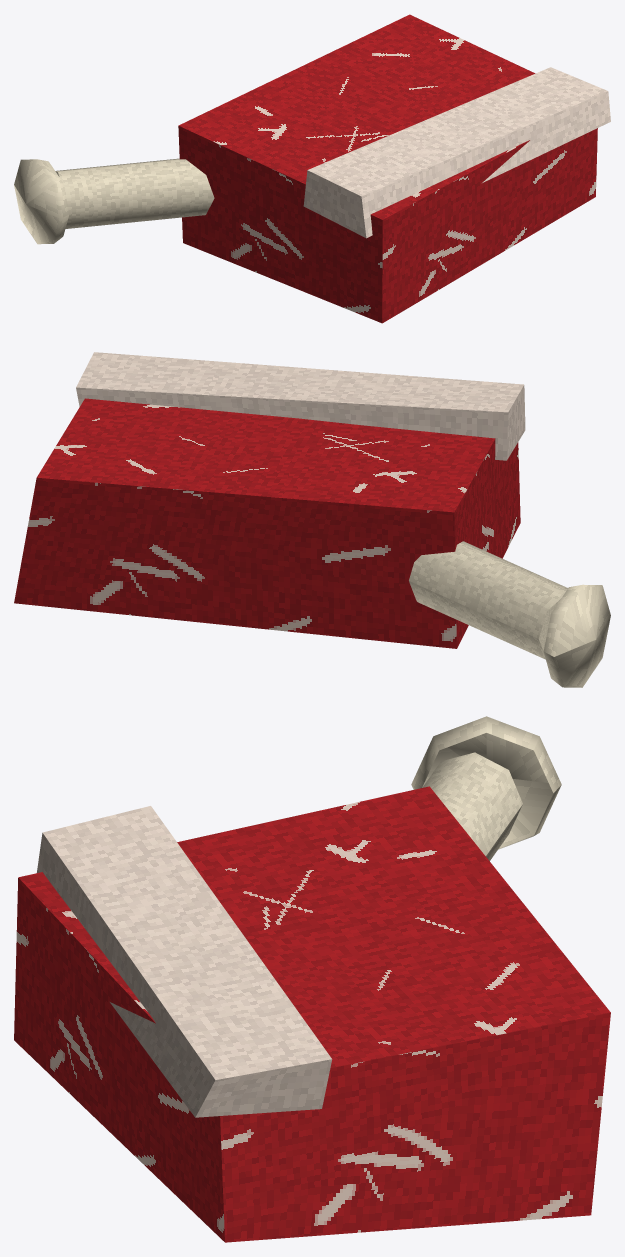
Rendered from item_raw_meat.glb.
The picture shows the model from 3 angles, top to bottom: view 1: azimuth 30°, elevation 25°; view 2: azimuth 150°, elevation 25°; view 3: azimuth 270°, elevation 25°; orthographic projection. The views are drawn at different scales.
Parts seen in each view (by area): view 1: item_raw_meat; view 2: item_raw_meat; view 3: item_raw_meat.
Boxes of the visible parts, bbox=[...] form: item_raw_meat: bbox=[14, 14, 610, 323]; item_raw_meat: bbox=[14, 352, 610, 687]; item_raw_meat: bbox=[14, 716, 610, 1242].
Bounding box in the file's own units: 0.221 × 0.0552 × 0.1427.
3 materials, 3 textured.
